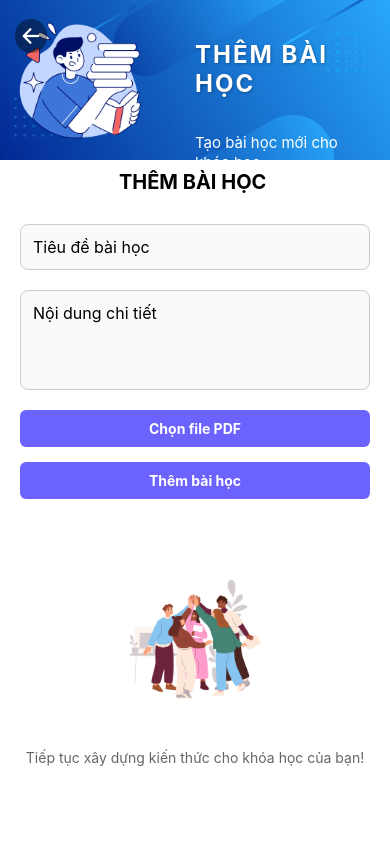
Test: AddLessonScreen UI › bấm Chọn file PDF → chọn thành công
Click the element named "pickPDFFile" at (195, 428), box [20,410,370,447]
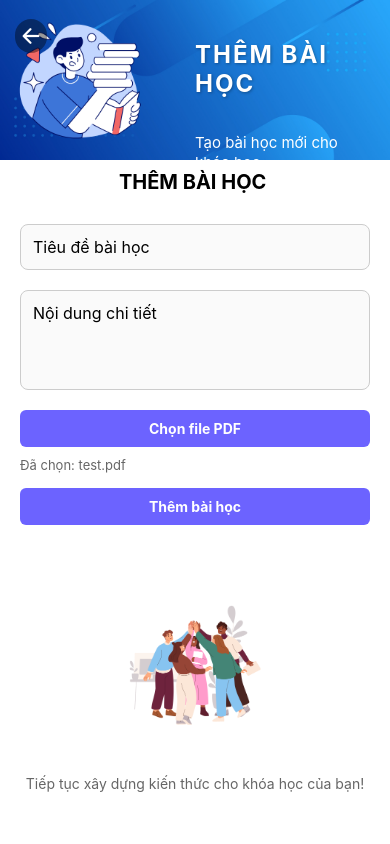
Expected: the text "Đã chọn: test.pdf" is shown, [20,457,126,473]
